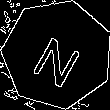N_NE: (27, 22, 87, 86)
